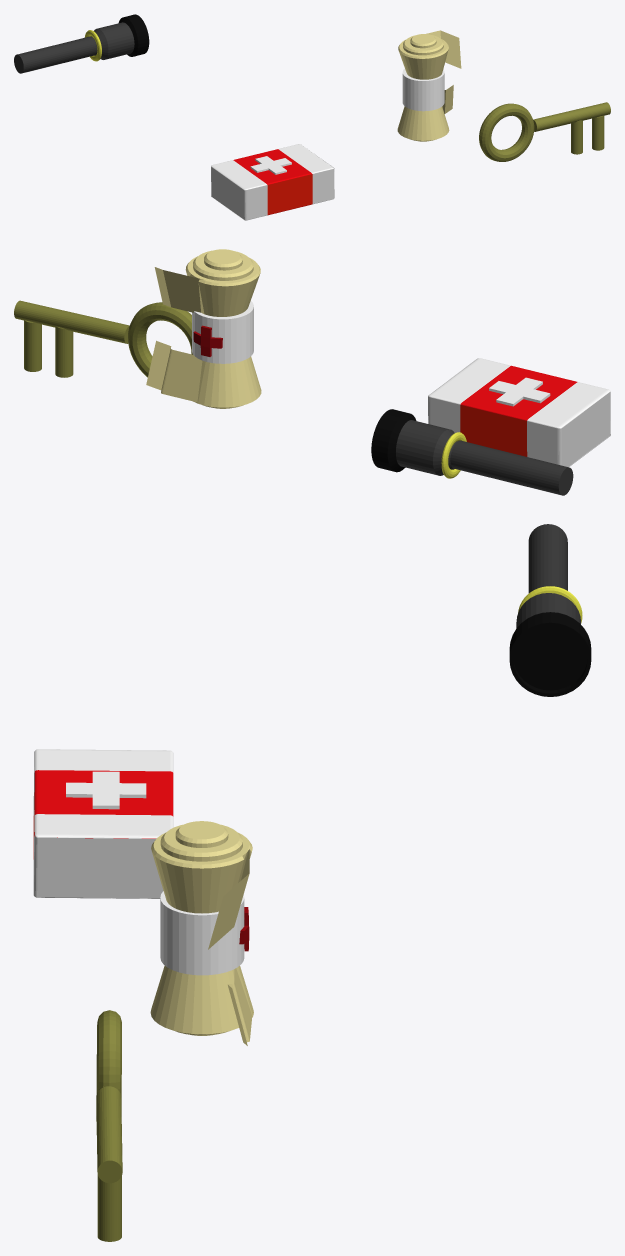
Rendered from med kit.fbx.
The picture shows the model from 3 angles, top to bottom: view 1: azimuth 30°, elevation 25°; view 2: azimuth 150°, elevation 25°; view 3: azimuth 270°, elevation 25°; orthographic projection. The views are drawn at different scales.
Visible parts, largest first — view 1: Cover, Cylinder.001, Key, Cylinder.004, Cover_Tape, Cylinder.005, Cylinder.006; view 2: Cover, Cylinder.001, Key, Cylinder.004, Cover_Tape, Cylinder.005, Cylinder.006, Grid, Torus.001; view 3: Cover, Cylinder.001, Key, Cylinder.006, Cover_Tape, Cylinder.004, Cylinder.005.
Part boxes in pixels (x1,y1,x2,y2): Cover: (211, 144, 334, 220); Cylinder.001: (397, 30, 461, 141); Key: (479, 102, 610, 161); Cylinder.004: (14, 36, 96, 73); Cover_Tape: (402, 68, 444, 111); Cylinder.005: (91, 22, 134, 59); Cylinder.006: (118, 14, 149, 56); Cover: (428, 358, 610, 467); Cylinder.001: (146, 249, 261, 408); Key: (14, 300, 192, 377); Cylinder.004: (450, 440, 573, 495); Cover_Tape: (192, 300, 253, 363); Cylinder.005: (396, 420, 457, 475); Cylinder.006: (371, 409, 416, 472); Grid: (193, 325, 222, 356); Torus.001: (441, 432, 466, 478); Cover: (33, 749, 173, 898); Cylinder.001: (150, 821, 253, 1045); Key: (96, 1010, 122, 1241); Cylinder.006: (509, 612, 591, 696); Cover_Tape: (160, 891, 244, 975); Cylinder.004: (528, 524, 567, 593); Cylinder.005: (516, 593, 580, 628).
Size of the model in its own units: 3195 by 870 by 1609.
